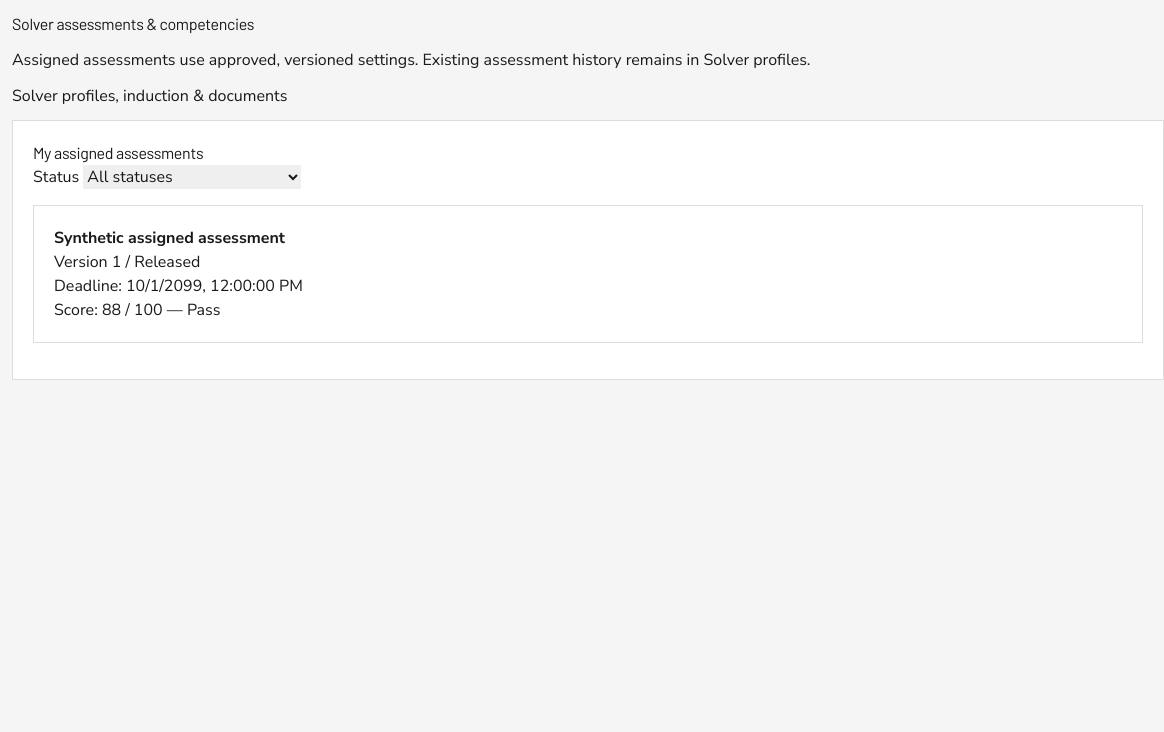
Test case: released section results are shown alongside the overall score
Click the button at x=588, y=274, box top-left (33, 205), bottom-right (1143, 343)
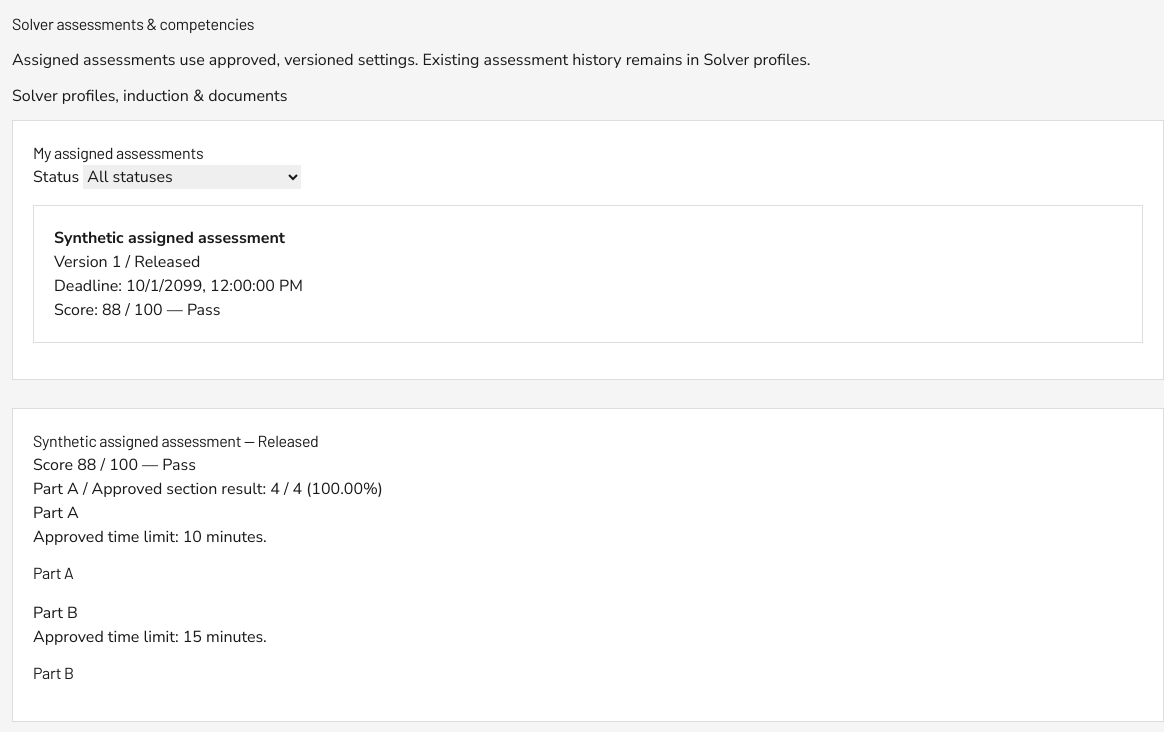
Now the list named "Assessment section results" shows "Approved section result: 4 / 4", box top-left (33, 478), bottom-right (383, 500)
